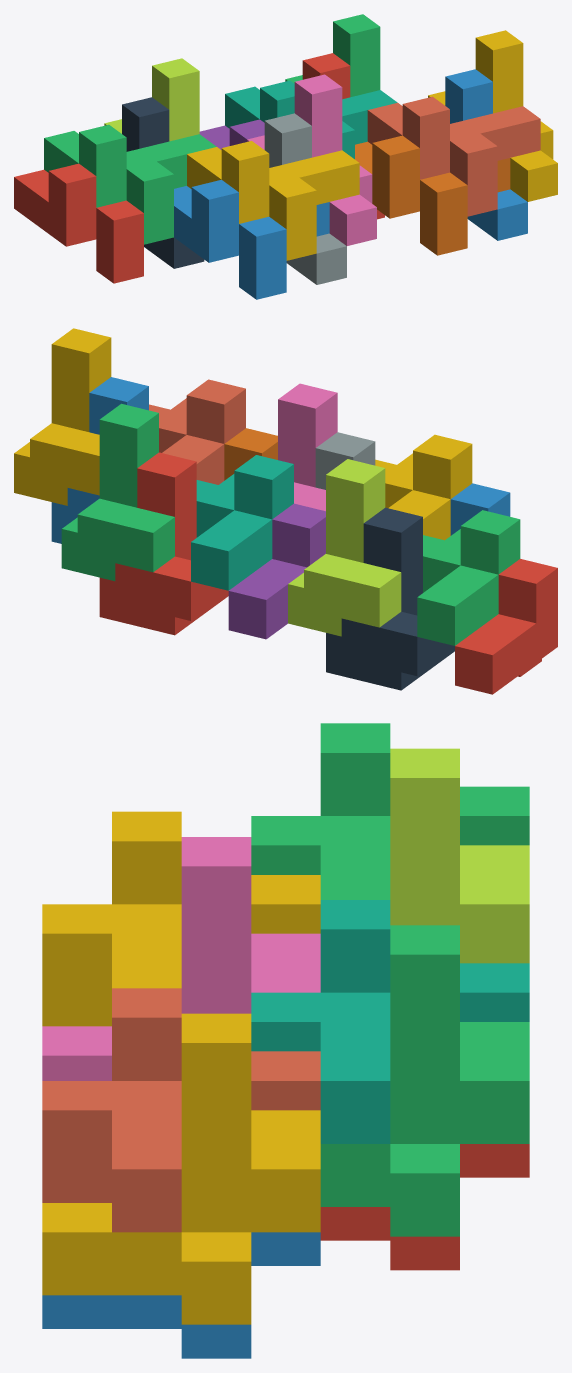
The model's file is tiling.obj.
The picture shows the model from 3 angles, top to bottom: view 1: azimuth 30°, elevation 25°; view 2: azimuth 150°, elevation 25°; view 3: azimuth 270°, elevation 25°; orthographic projection. The views are drawn at different scales.
Visible parts, largest first — view 1: copy_1_domain_8, copy_1_domain_4, copy_1_domain_3, copy_1_domain_1, copy_1_domain_2, copy_1_domain_6, copy_2_domain_8, copy_2_domain_4, copy_1_domain_7, copy_2_domain_6, copy_2_domain_2, copy_2_domain_1 (+4 smaller); view 2: copy_2_domain_7, copy_2_domain_3, copy_2_domain_1, copy_2_domain_5, copy_2_domain_8, copy_1_domain_7, copy_1_domain_3, copy_1_domain_1, copy_1_domain_5, copy_1_domain_4, copy_1_domain_8, copy_2_domain_4 (+4 smaller); view 3: copy_2_domain_8, copy_2_domain_7, copy_1_domain_8, copy_1_domain_7, copy_1_domain_4, copy_1_domain_3, copy_2_domain_3, copy_2_domain_4, copy_2_domain_6, copy_2_domain_5.
Part boxes in pixels (<box>): copy_1_domain_8: <box>367,96,540,216</box>; copy_1_domain_4: <box>187,141,359,260</box>; copy_1_domain_3: <box>44,124,216,244</box>; copy_1_domain_1: <box>14,163,143,283</box>; copy_1_domain_2: <box>174,180,329,299</box>; copy_1_domain_6: <box>355,135,510,255</box>; copy_2_domain_8: <box>428,30,557,201</box>; copy_2_domain_4: <box>247,74,376,245</box>; copy_1_domain_7: <box>225,80,397,159</box>; copy_2_domain_6: <box>445,69,527,240</box>; copy_2_domain_2: <box>264,113,346,284</box>; copy_2_domain_1: <box>122,97,204,268</box>; copy_2_domain_7: <box>61,403,174,581</box>; copy_2_domain_3: <box>288,459,401,636</box>; copy_2_domain_1: <box>326,507,454,690</box>; copy_2_domain_5: <box>99,452,228,635</box>; copy_2_domain_8: <box>14,328,111,505</box>; copy_1_domain_7: <box>191,455,293,590</box>; copy_1_domain_3: <box>417,510,520,645</box>; copy_1_domain_1: <box>455,559,557,694</box>; copy_1_domain_5: <box>228,503,325,639</box>; copy_1_domain_4: <box>375,434,472,540</box>; copy_1_domain_8: <box>149,379,245,484</box>; copy_2_domain_4: <box>278,383,337,511</box>; copy_2_domain_8: <box>42,1013,320,1324</box>; copy_2_domain_7: <box>320,925,529,1236</box>; copy_1_domain_8: <box>42,988,320,1232</box>; copy_1_domain_7: <box>251,900,529,1143</box>; copy_1_domain_4: <box>42,811,320,1026</box>; copy_1_domain_3: <box>251,723,529,899</box>; copy_2_domain_3: <box>390,748,529,963</box>; copy_2_domain_4: <box>42,837,320,1080</box>; copy_2_domain_6: <box>42,1232,320,1358</box>; copy_2_domain_5: <box>320,1144,529,1270</box>.
Size of the model in its own units: 15 by 5 by 7.
